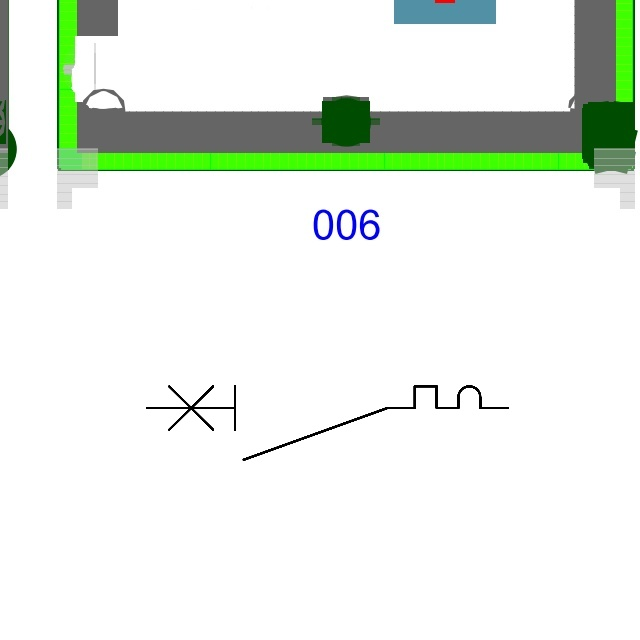interruptor_termomagnetico: (138, 377, 517, 469)
